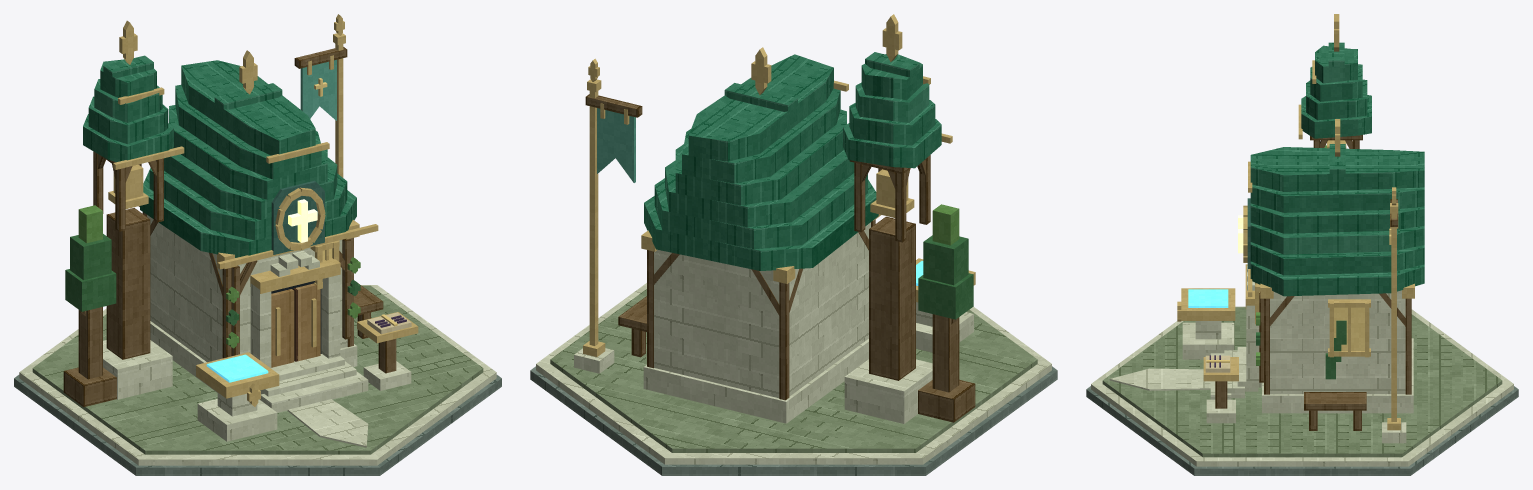
File: elf_sacred_temple_hex_v1.glb
3 views of the same model, side by side, from view 1: azimuth 30°, elevation 25°; view 2: azimuth 150°, elevation 25°; view 3: azimuth 270°, elevation 25° (orthographic). The views are drawn at different scales.
Parts seen in each view (by area): view 1: Elf_Sacred_Temple_Hex_V1_Roofs, Elf_Sacred_Temple_Hex_V1_Foundation, Elf_Sacred_Temple_Hex_V1_Hall, Elf_Sacred_Temple_Hex_V1_Focus, Elf_Sacred_Temple_Hex_V1_Training, Elf_Sacred_Temple_Hex_V1_Courtyard, Elf_Sacred_Temple_Hex_V1_Details, Elf_Sacred_Temple_Hex_V1_Faction; view 2: Elf_Sacred_Temple_Hex_V1_Hall, Elf_Sacred_Temple_Hex_V1_Roofs, Elf_Sacred_Temple_Hex_V1_Foundation, Elf_Sacred_Temple_Hex_V1_Focus, Elf_Sacred_Temple_Hex_V1_Faction, Elf_Sacred_Temple_Hex_V1_Training, Elf_Sacred_Temple_Hex_V1_Details; view 3: Elf_Sacred_Temple_Hex_V1_Foundation, Elf_Sacred_Temple_Hex_V1_Roofs, Elf_Sacred_Temple_Hex_V1_Hall, Elf_Sacred_Temple_Hex_V1_Training, Elf_Sacred_Temple_Hex_V1_Details, Elf_Sacred_Temple_Hex_V1_Courtyard, Elf_Sacred_Temple_Hex_V1_Faction, Elf_Sacred_Temple_Hex_V1_Focus.
Part boxes in pixels (x1,y1,x2,y2): Elf_Sacred_Temple_Hex_V1_Roofs: (83, 55, 378, 269); Elf_Sacred_Temple_Hex_V1_Foundation: (14, 285, 501, 475); Elf_Sacred_Temple_Hex_V1_Hall: (93, 151, 357, 399); Elf_Sacred_Temple_Hex_V1_Focus: (63, 164, 325, 407); Elf_Sacred_Temple_Hex_V1_Training: (196, 283, 418, 441); Elf_Sacred_Temple_Hex_V1_Courtyard: (260, 354, 368, 447); Elf_Sacred_Temple_Hex_V1_Details: (119, 14, 360, 356); Elf_Sacred_Temple_Hex_V1_Faction: (294, 33, 347, 177); Elf_Sacred_Temple_Hex_V1_Hall: (643, 155, 932, 423); Elf_Sacred_Temple_Hex_V1_Roofs: (644, 52, 952, 270); Elf_Sacred_Temple_Hex_V1_Foundation: (530, 283, 1057, 475); Elf_Sacred_Temple_Hex_V1_Focus: (870, 169, 975, 422); Elf_Sacred_Temple_Hex_V1_Faction: (574, 79, 642, 373); Elf_Sacred_Temple_Hex_V1_Training: (618, 258, 975, 357); Elf_Sacred_Temple_Hex_V1_Details: (588, 14, 902, 283); Elf_Sacred_Temple_Hex_V1_Foundation: (1086, 306, 1518, 475); Elf_Sacred_Temple_Hex_V1_Roofs: (1248, 42, 1424, 296); Elf_Sacred_Temple_Hex_V1_Hall: (1245, 135, 1413, 413); Elf_Sacred_Temple_Hex_V1_Training: (1177, 288, 1366, 430); Elf_Sacred_Temple_Hex_V1_Details: (1255, 14, 1414, 382); Elf_Sacred_Temple_Hex_V1_Courtyard: (1109, 347, 1258, 399); Elf_Sacred_Temple_Hex_V1_Faction: (1382, 199, 1406, 443); Elf_Sacred_Temple_Hex_V1_Focus: (1238, 140, 1346, 271).
Size of the model in its own units: 1.59 by 1.57 by 1.84.
Materials: 1 (1 with a texture image).
